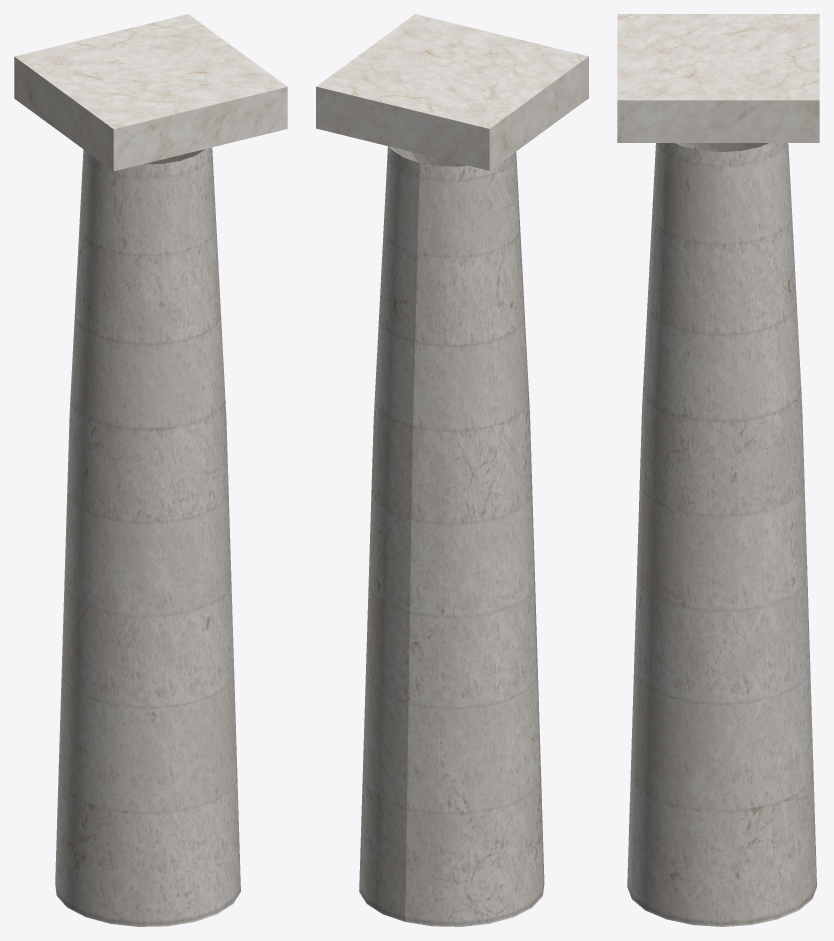
Rendered from DoricColumn.glb.
3 renders of one model, left to right at view 1: azimuth 30°, elevation 25°; view 2: azimuth 150°, elevation 25°; view 3: azimuth 270°, elevation 25°, orthographic.
Visible parts, largest first — view 1: DoricColumn; view 2: DoricColumn; view 3: DoricColumn.
Boxes of the visible parts, x1=… form: DoricColumn: x1=14, y1=14, x2=287, y2=926; DoricColumn: x1=316, y1=14, x2=588, y2=926; DoricColumn: x1=617, y1=14, x2=819, y2=926.
Size of the model in its own units: 1.99 by 8.95 by 1.97.
2 materials, 2 textured.
